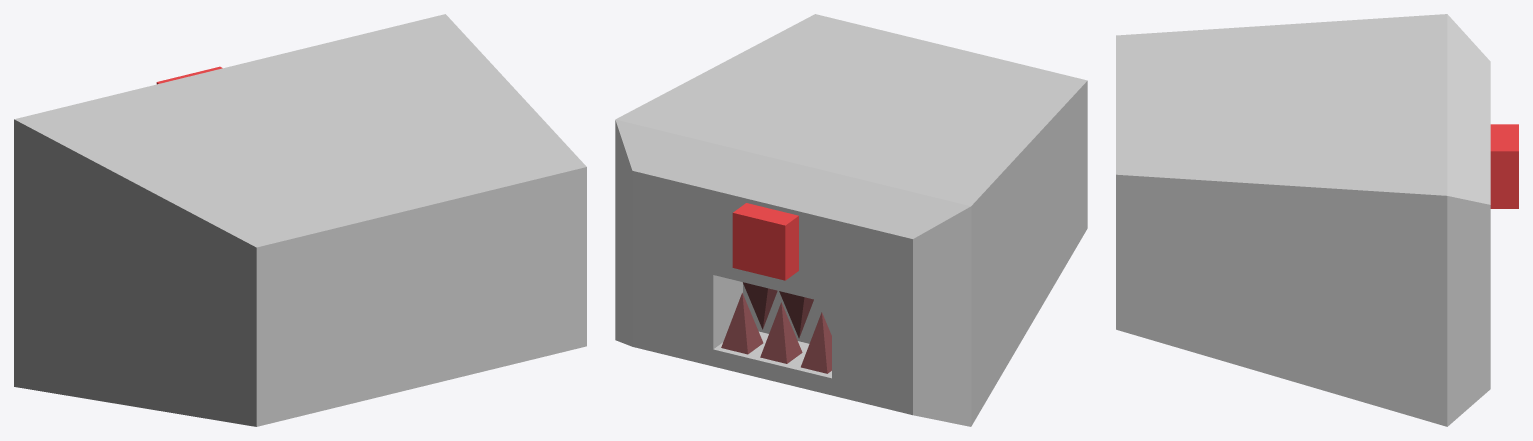
The model's file is spine_head.glb.
3 views of the same model, side by side, from view 1: azimuth 30°, elevation 25°; view 2: azimuth 150°, elevation 25°; view 3: azimuth 270°, elevation 25° (orthographic). The views are drawn at different scales.
Visible parts, largest first — view 1: skull; view 2: skull, teeth, eye; view 3: skull, eye.
Boxes of the visible parts, <box> form: skull: <box>14,14,586,426</box>; skull: <box>615,14,1087,426</box>; teeth: <box>721,282,831,373</box>; eye: <box>732,203,798,280</box>; skull: <box>1116,14,1490,426</box>; eye: <box>1490,124,1518,208</box>.
Bounding box in the file's own units: 1.69 × 1 × 1.58.
